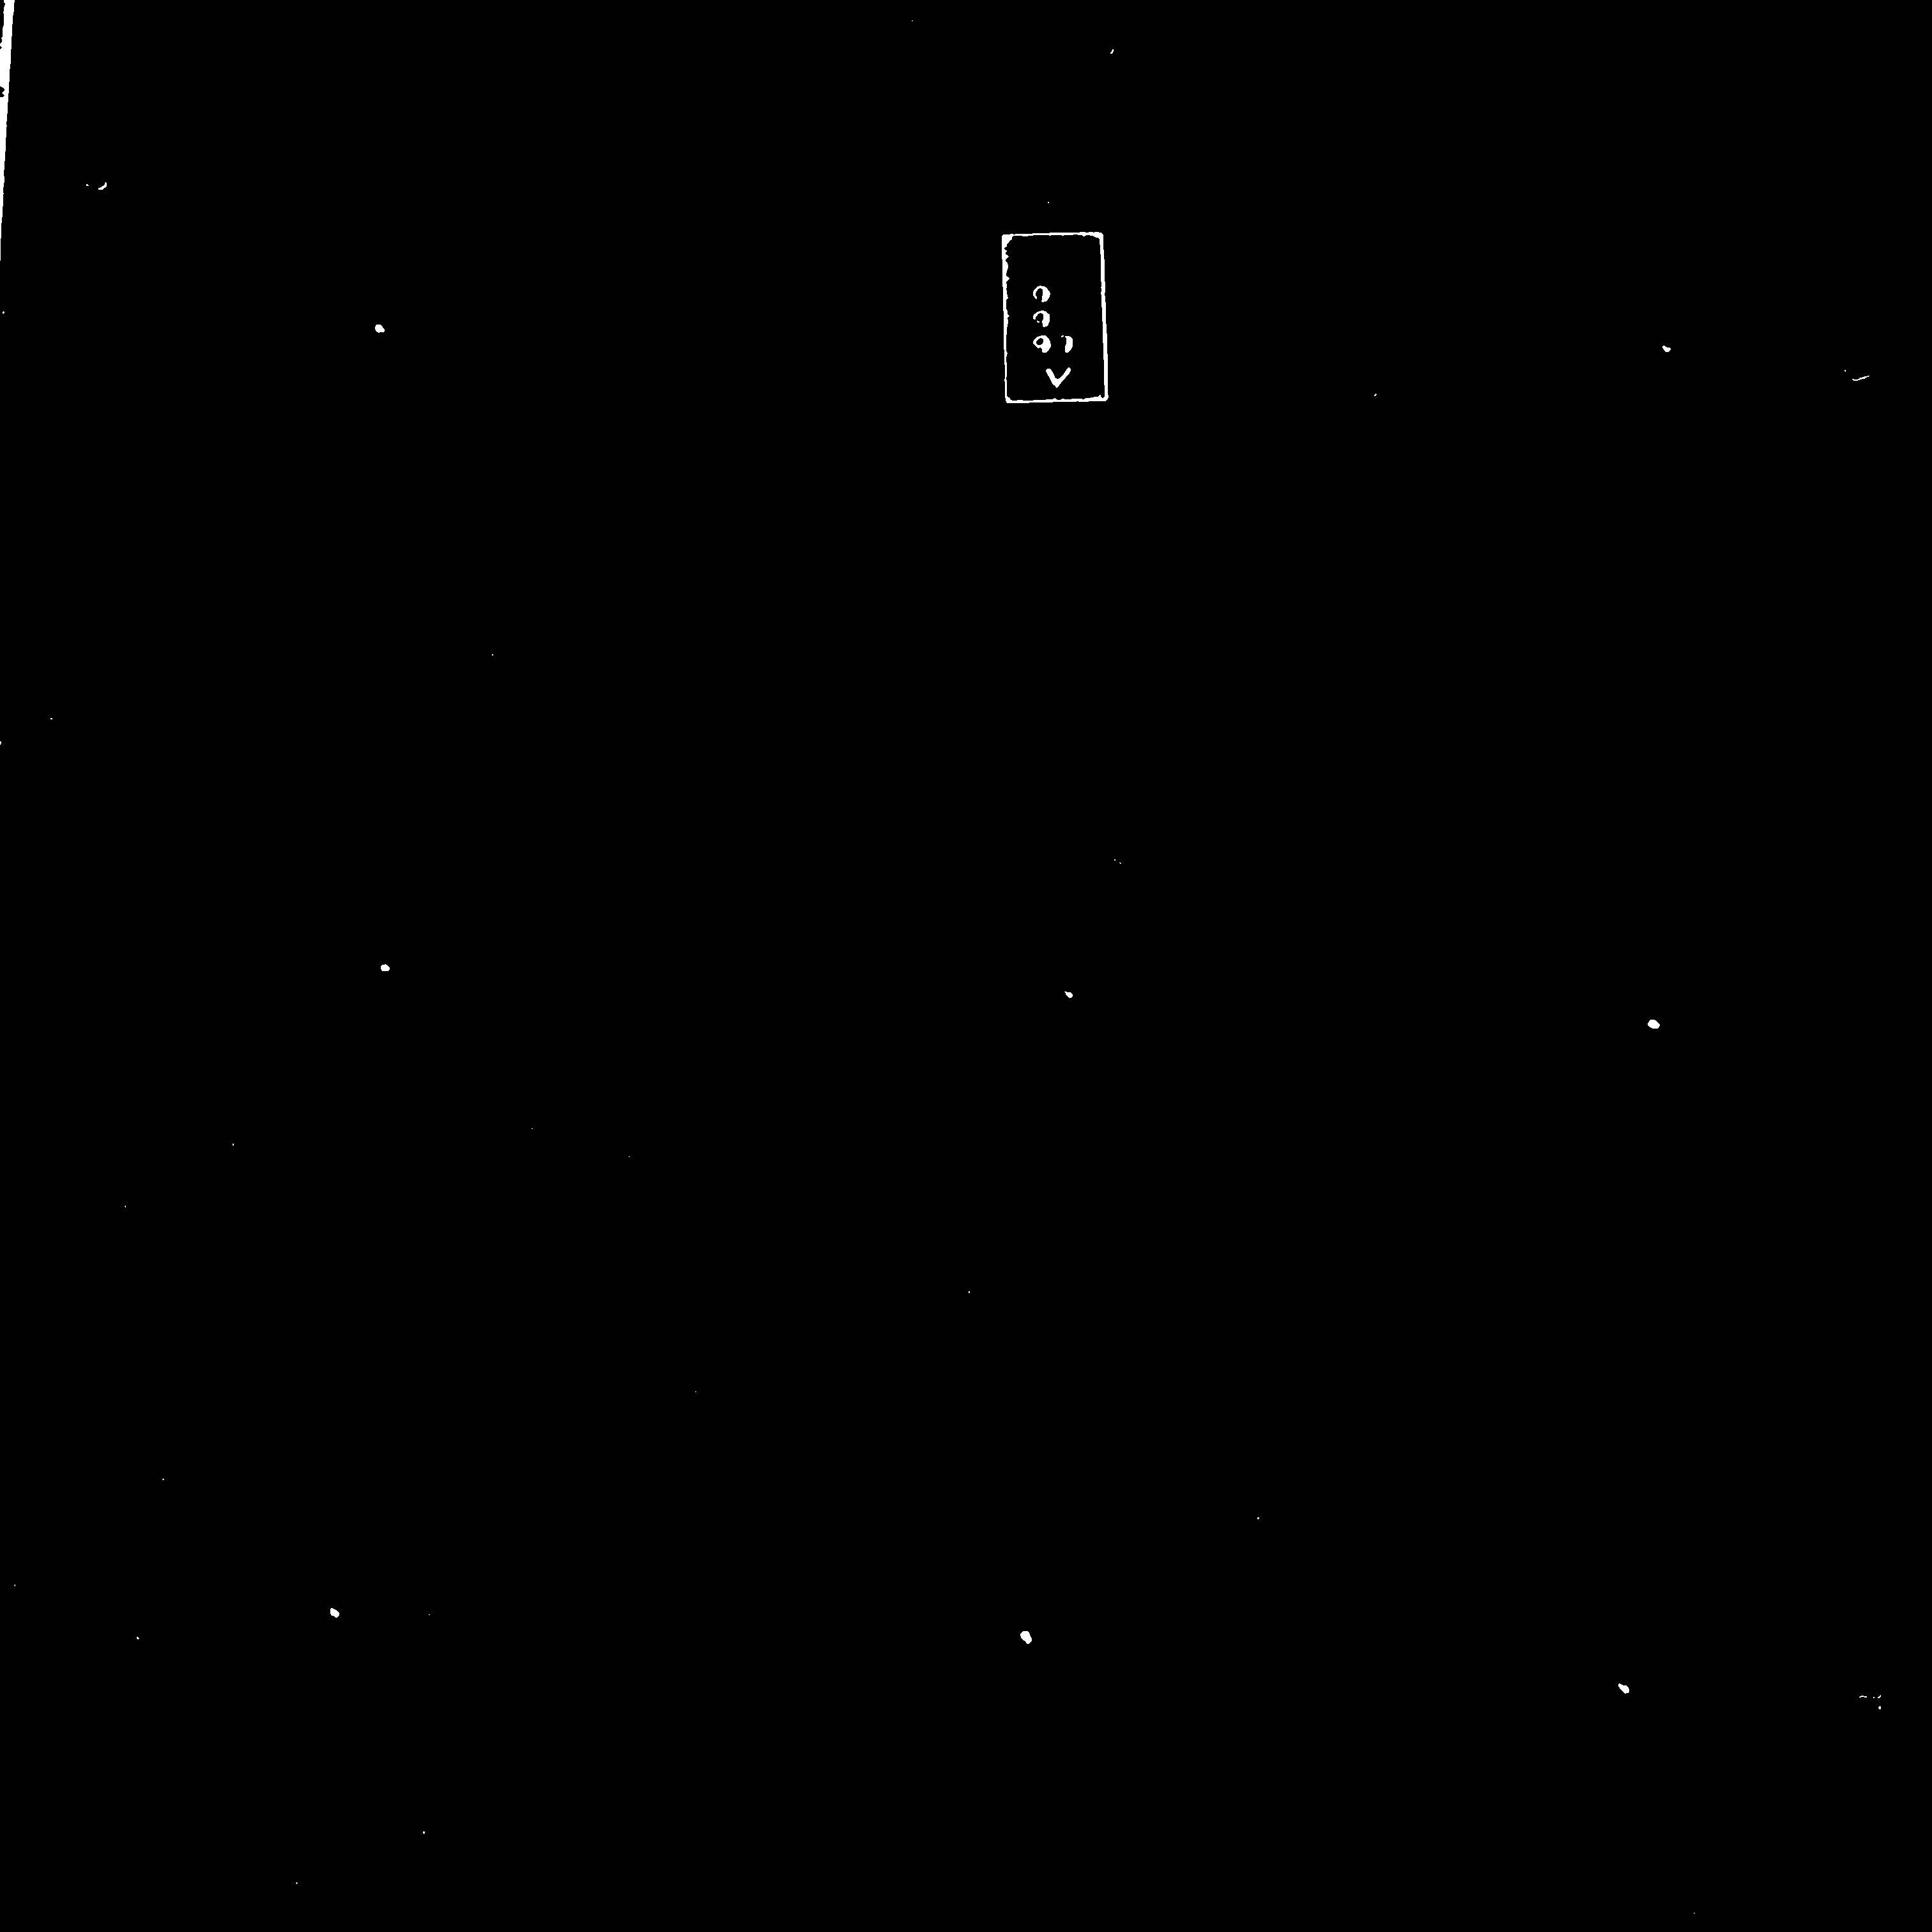v: (1023, 268, 1089, 361)
